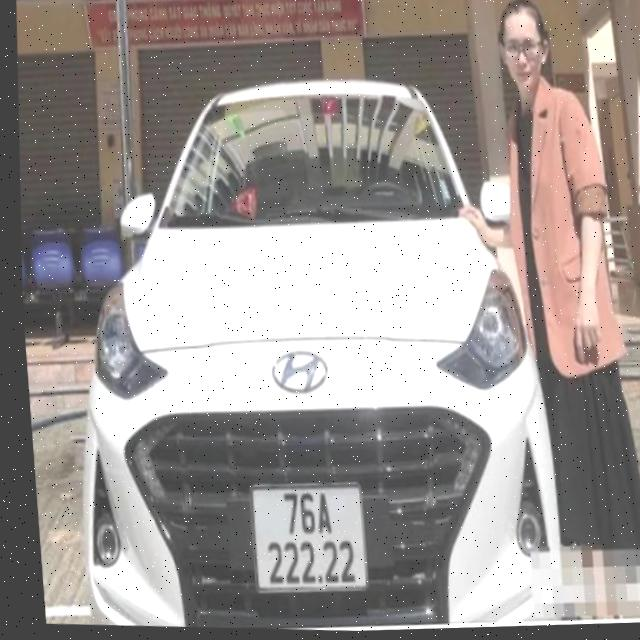car: (38, 27, 598, 639)
plate: (239, 473, 380, 602)
